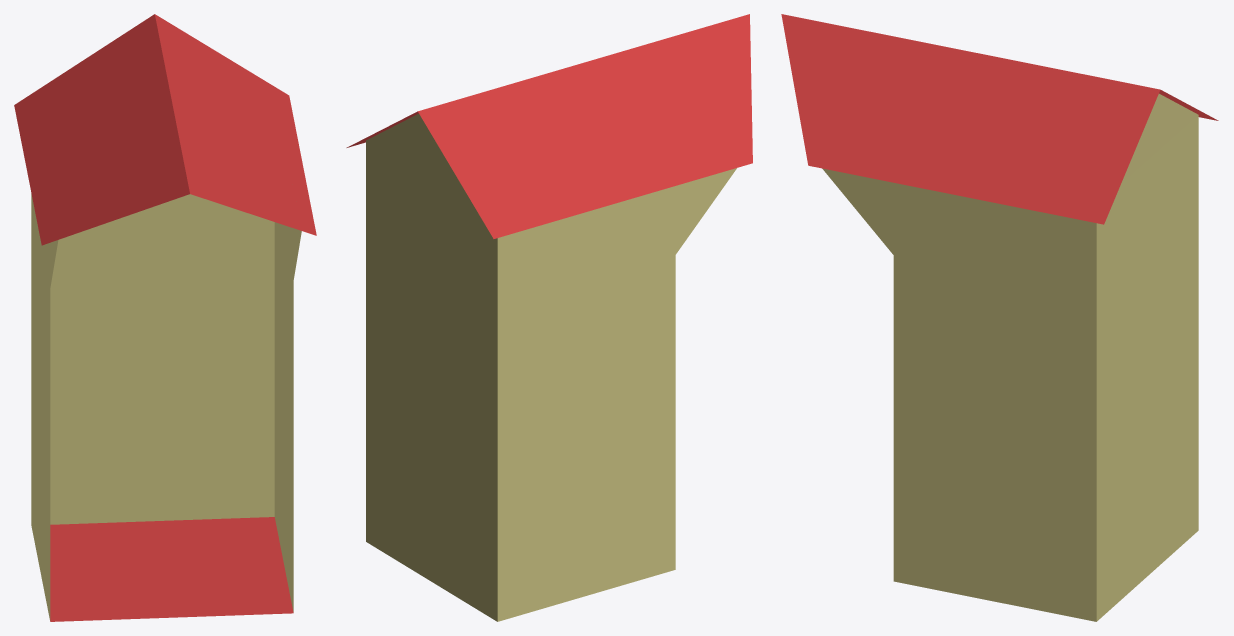
3 renders of one model, left to right at view 1: azimuth 30°, elevation 25°; view 2: azimuth 150°, elevation 25°; view 3: azimuth 270°, elevation 25°, orthographic. The views are drawn at different scales.
Size of the model in its own units: 6.16 by 7.02 by 8.67.
